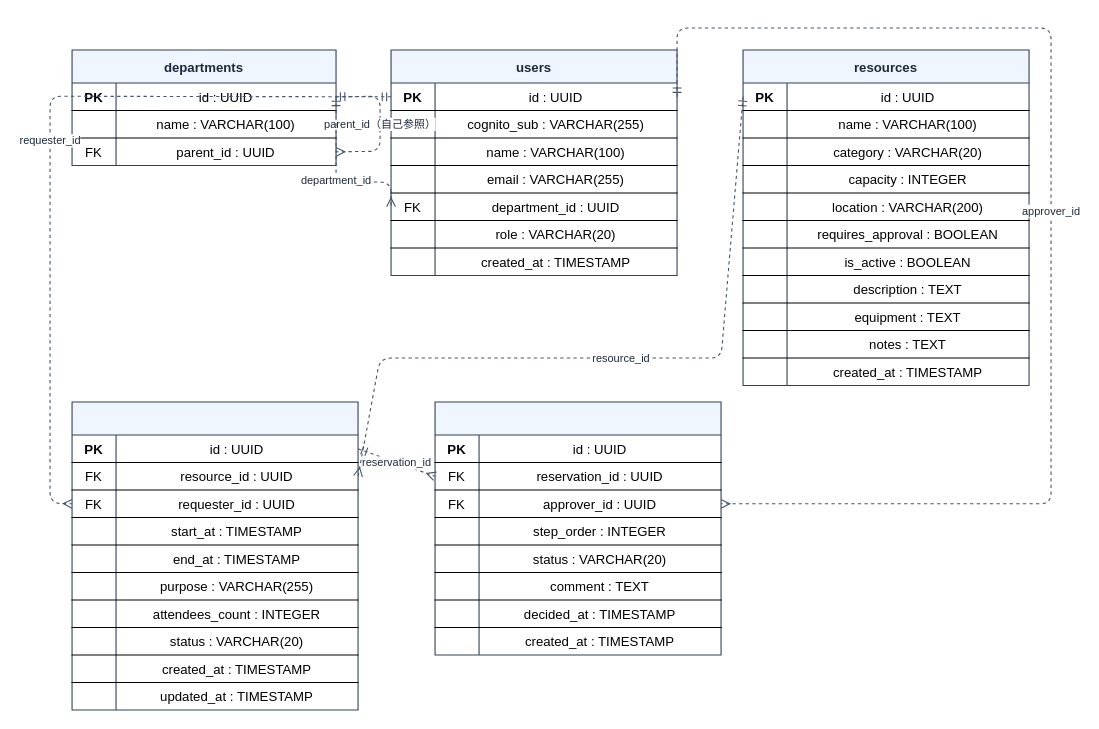
Image size: 1099x729. Some labels were removed from this diagram. Here are the shapes that lost their labels. From the top down, the box of each, then its label:
(434, 401, 721, 655): approval_steps
(71, 401, 358, 710): reservations
